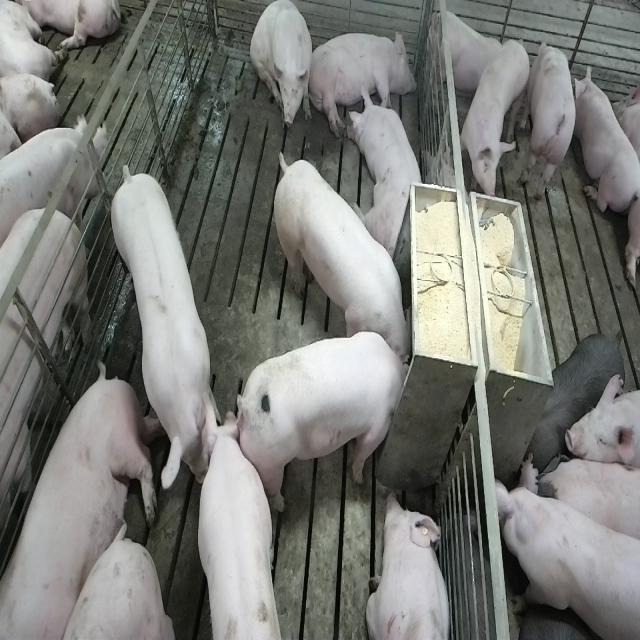Feeding: (244, 330, 419, 513), (270, 144, 411, 362)
Lateral_lying: (307, 27, 417, 142)
Sitting: (250, 2, 314, 137)
Standing: (0, 195, 94, 640), (105, 156, 219, 487), (494, 458, 638, 640), (188, 407, 282, 640), (0, 107, 108, 248), (526, 330, 624, 458), (457, 36, 531, 196), (537, 450, 640, 553), (528, 35, 580, 204)
Sternal_lying: (350, 88, 429, 260), (365, 489, 453, 640), (576, 60, 638, 214), (426, 5, 512, 101)
